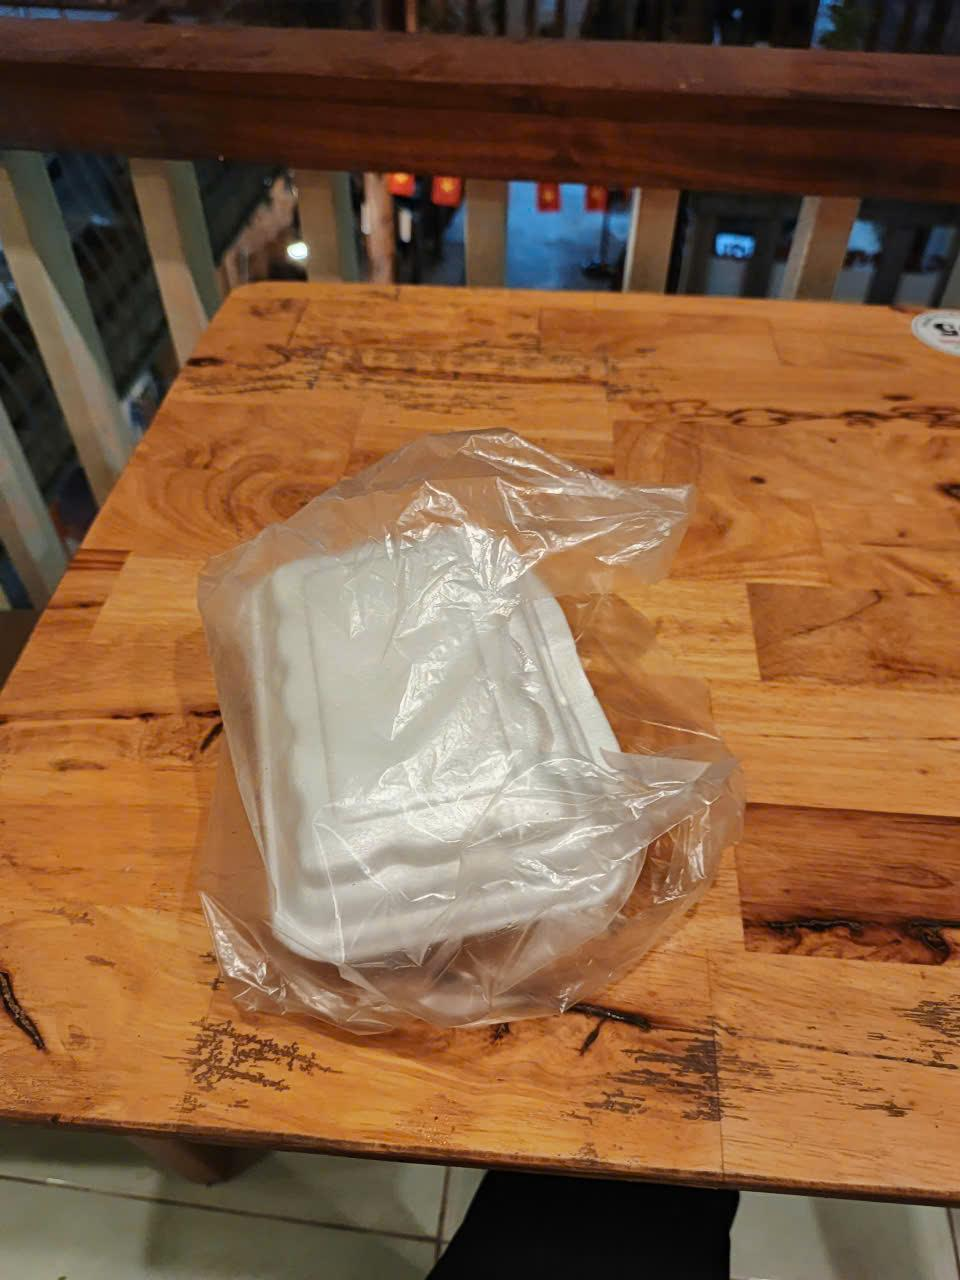Con lai: (190, 420, 746, 1049)
